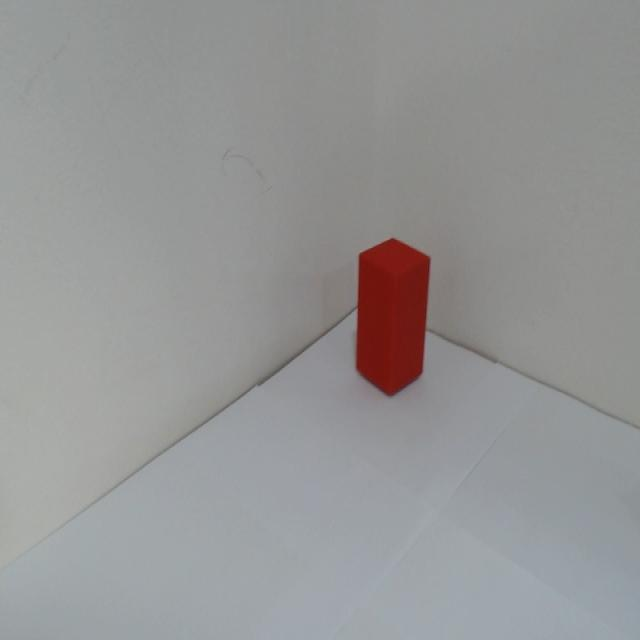cube: (350, 233, 433, 399)
